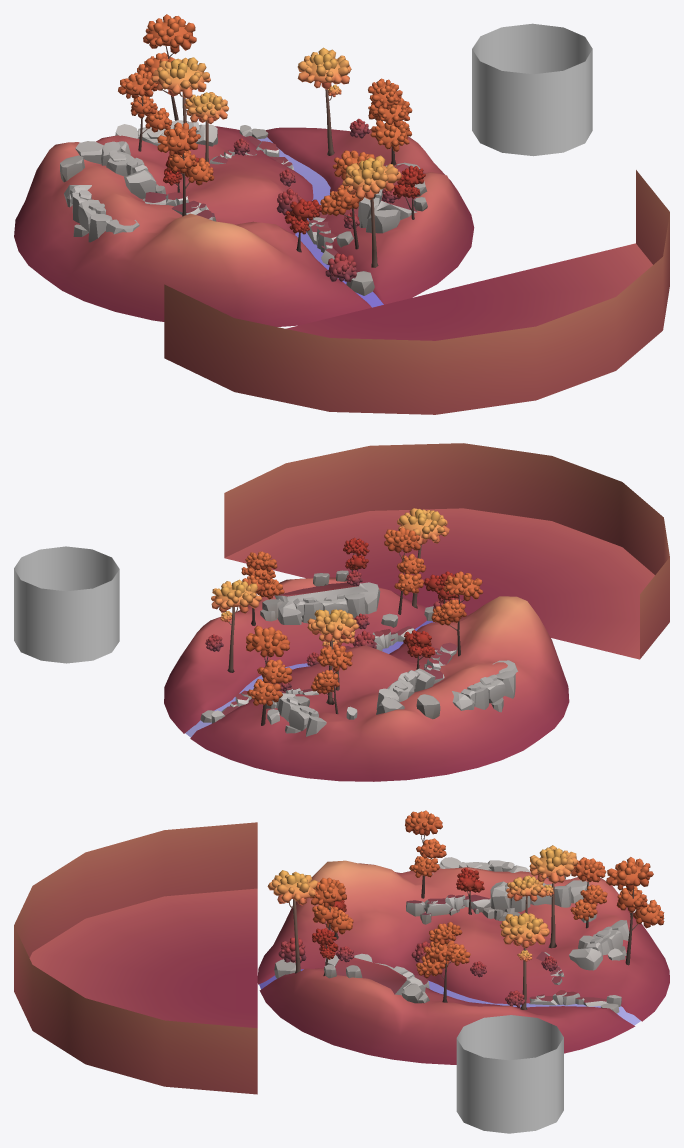
The model's file is assets_t4_a1.fbx.
3 views of the same model, one above another, from view 1: azimuth 30°, elevation 25°; view 2: azimuth 150°, elevation 25°; view 3: azimuth 270°, elevation 25° (orthographic). The views are drawn at different scales.
Parts seen in each view (by area): view 1: ground_t4_era1, Terrain, godray_t4_era1, Terrain.001, Tree4.001, Rock2, Tree2.002, Tree5.005, Tree6, Rock2.001, Tree2.001, Tree6.001 (+12 smaller); view 2: ground_t4_era1, Terrain, godray_t4_era1, Terrain.001, Tree2.001, Rock2.004, Rock2.001, Tree2.003, Tree6, Tree2.002, Rock2, Tree6.001 (+11 smaller); view 3: ground_t4_era1, Terrain, Terrain.001, godray_t4_era1, Tree2.001, Rock2, Tree4.001, Tree2.002, Tree6.001, Tree6, Tree2.003, Tree5.005 (+11 smaller).
Part boxes in pixels (x1,y1,x2,y2): ground_t4_era1: (164, 170, 669, 414); Terrain: (14, 126, 371, 326); godray_t4_era1: (472, 23, 592, 156); Terrain.001: (265, 127, 474, 304); Tree4.001: (368, 78, 412, 165); Rock2: (75, 141, 165, 201); Tree2.002: (157, 122, 214, 216); Tree5.005: (342, 155, 401, 267); Tree6: (297, 47, 351, 155); Rock2.001: (64, 185, 139, 242); Tree2.001: (137, 14, 196, 120); Tree6.001: (151, 57, 210, 123); ground_t4_era1: (224, 443, 669, 659); Terrain: (190, 596, 569, 781); godray_t4_era1: (14, 546, 119, 663); Terrain.001: (164, 577, 426, 733); Tree2.001: (246, 625, 292, 725); Rock2.004: (277, 582, 380, 624); Rock2.001: (452, 660, 517, 712); Tree2.003: (384, 527, 425, 614); Tree6: (211, 579, 261, 672); Tree2.002: (431, 571, 483, 656); Rock2: (376, 668, 435, 714); Tree6.001: (307, 609, 359, 704); ground_t4_era1: (14, 822, 257, 1094); Terrain: (257, 860, 669, 1021); Terrain.001: (259, 968, 635, 1064); godray_t4_era1: (456, 1015, 563, 1133); Tree2.001: (606, 857, 664, 965); Rock2: (482, 880, 589, 920); Tree4.001: (416, 922, 470, 1002); Tree2.002: (405, 810, 446, 898); Tree6.001: (529, 845, 578, 948); Tree6: (499, 912, 549, 1009); Tree2.003: (310, 877, 353, 934); Tree5.005: (267, 870, 318, 973).
Bounding box in the file's own units: 193 × 46.93 × 218.
